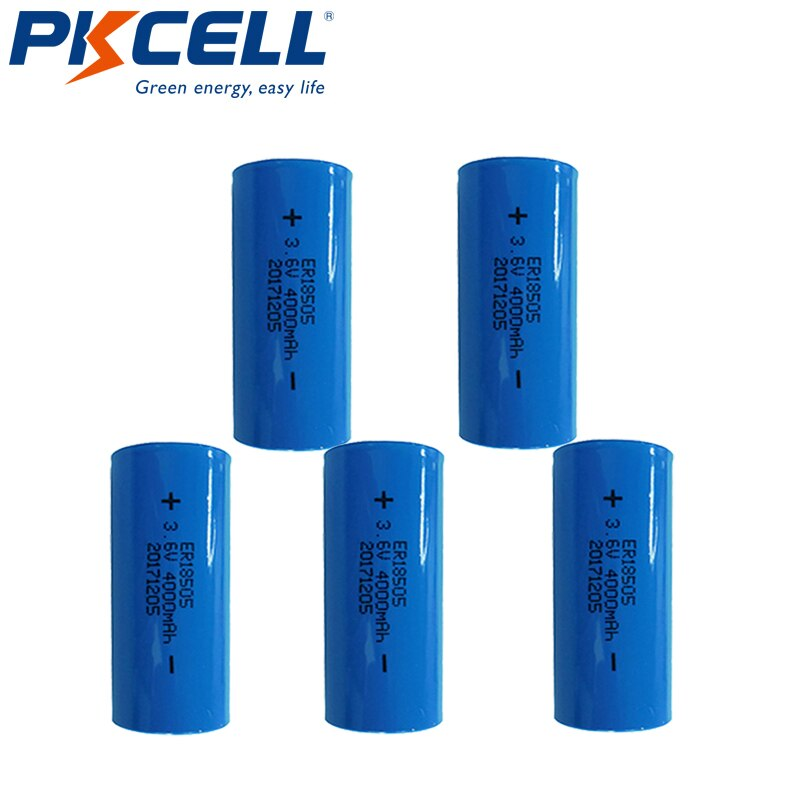Battery: (452, 149, 584, 451), (104, 439, 235, 739), (318, 437, 448, 737), (548, 436, 677, 734), (229, 156, 357, 453)
